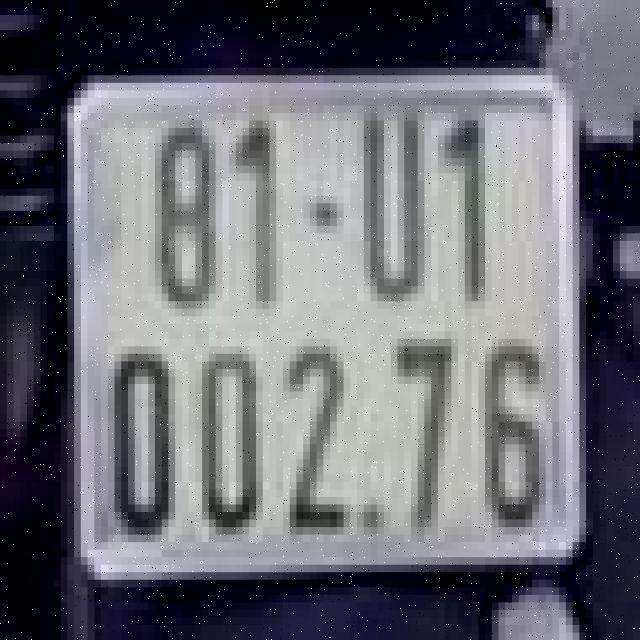0: (98, 335, 185, 546), (196, 335, 270, 538)
1: (229, 109, 303, 305), (441, 109, 509, 305)
2: (283, 350, 350, 538)
6: (471, 335, 566, 546)
7: (384, 331, 458, 550)
8: (148, 113, 222, 316)
U: (347, 94, 434, 313)
